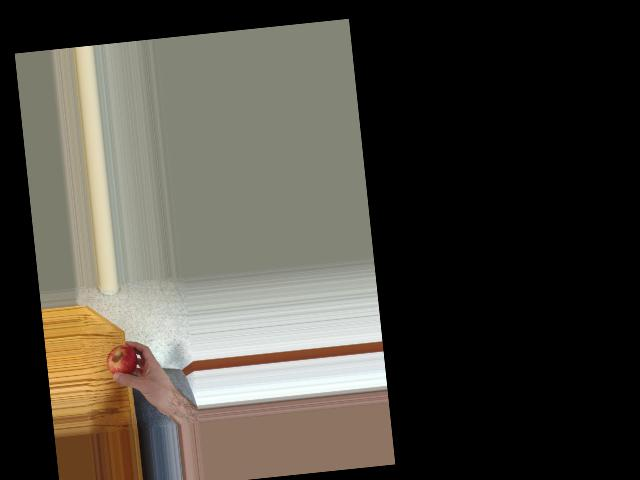apple: (103, 342, 141, 381)
